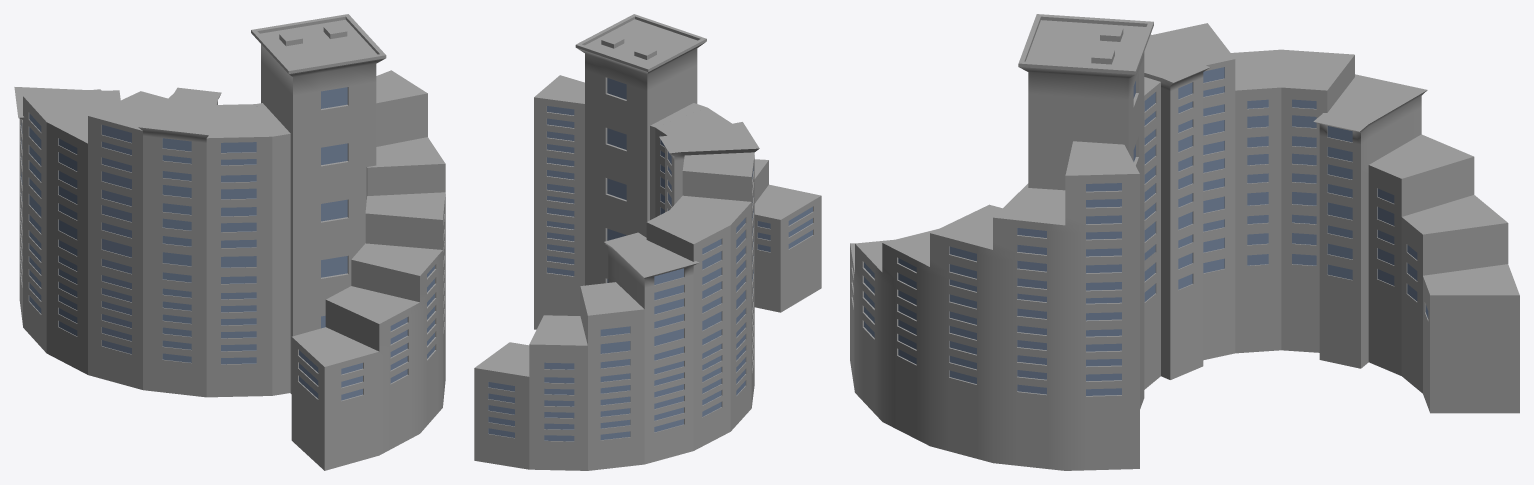
The model's file is SpiralBuilding.fbx.
The picture shows the model from 3 angles, left to right: view 1: azimuth 30°, elevation 25°; view 2: azimuth 150°, elevation 25°; view 3: azimuth 270°, elevation 25°; orthographic projection. The views are drawn at different scales.
Visible parts, largest first — view 1: SpiralBuilding2; view 2: SpiralBuilding2; view 3: SpiralBuilding2.
Boxes of the visible parts, x1,y1,x2,y2 form: SpiralBuilding2: [14, 14, 445, 470]; SpiralBuilding2: [474, 14, 821, 470]; SpiralBuilding2: [850, 14, 1519, 470].
Bounding box in the file's own units: 2.62 × 2.89 × 4.67.
